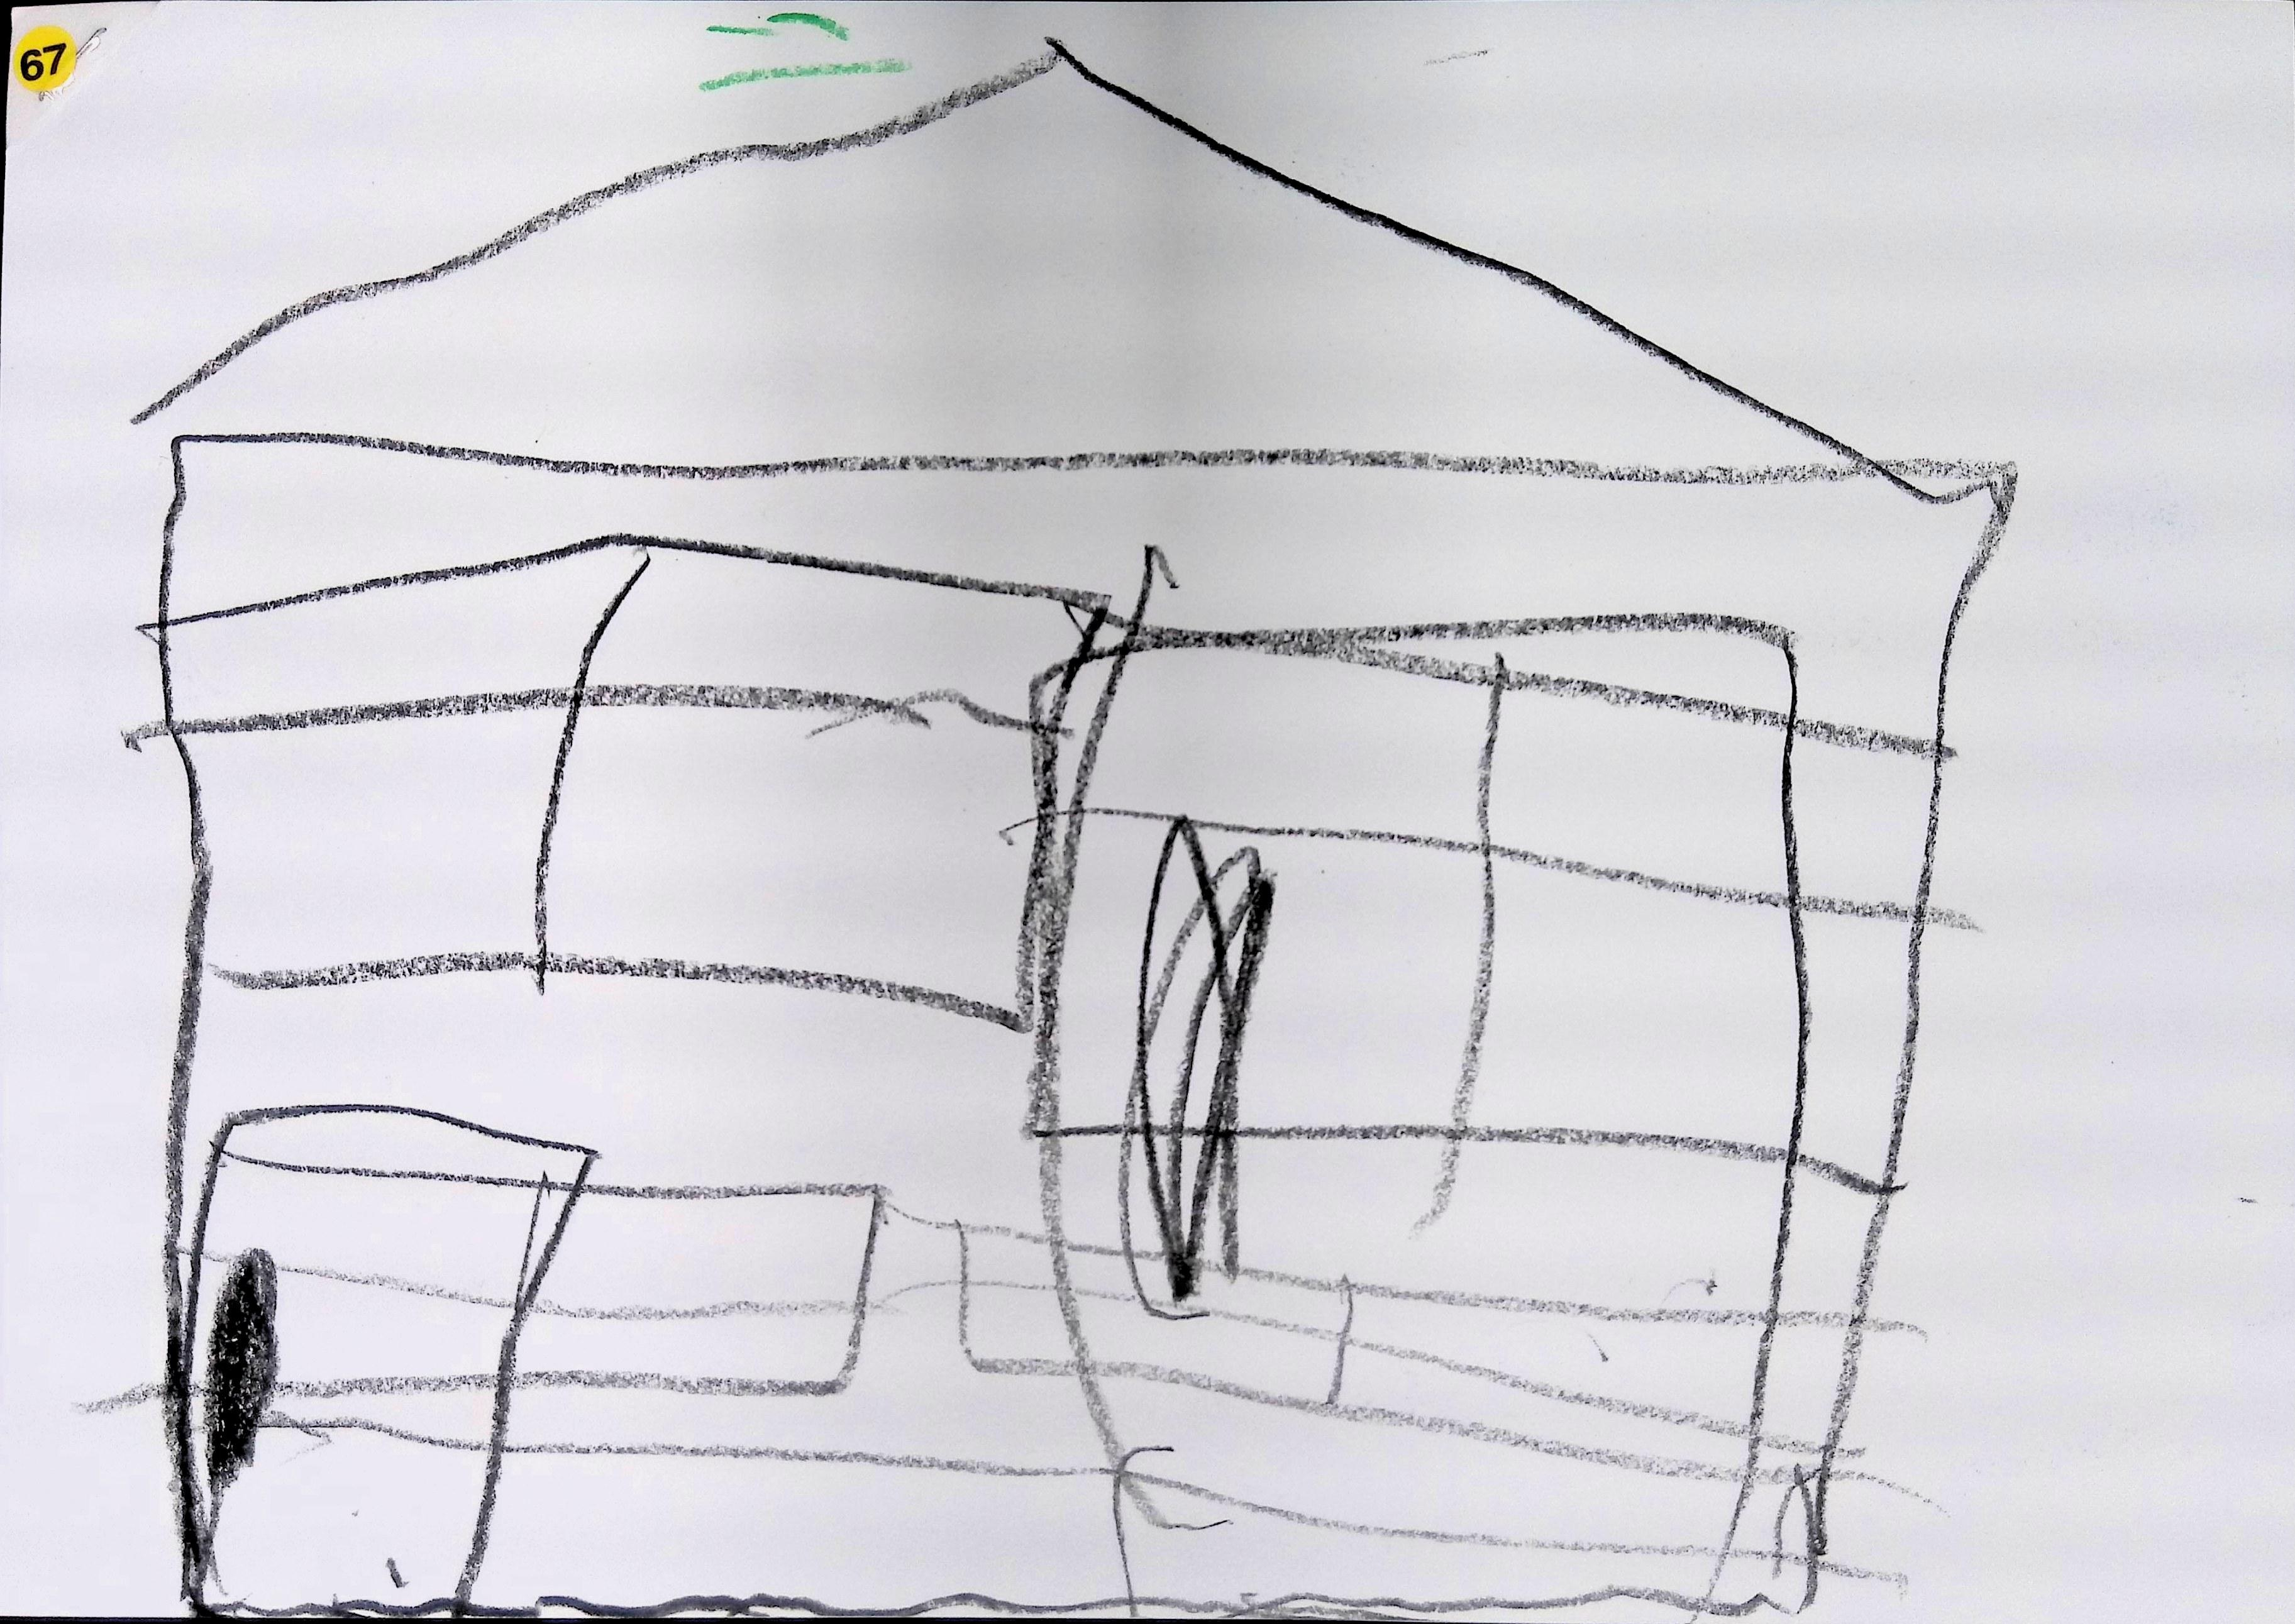door: (1037, 606, 1829, 1624), (148, 1093, 606, 1624)
house: (111, 28, 2031, 1624)
roof: (91, 28, 2016, 506)
wall: (148, 450, 2000, 1624)
window: (148, 522, 1111, 1049)
